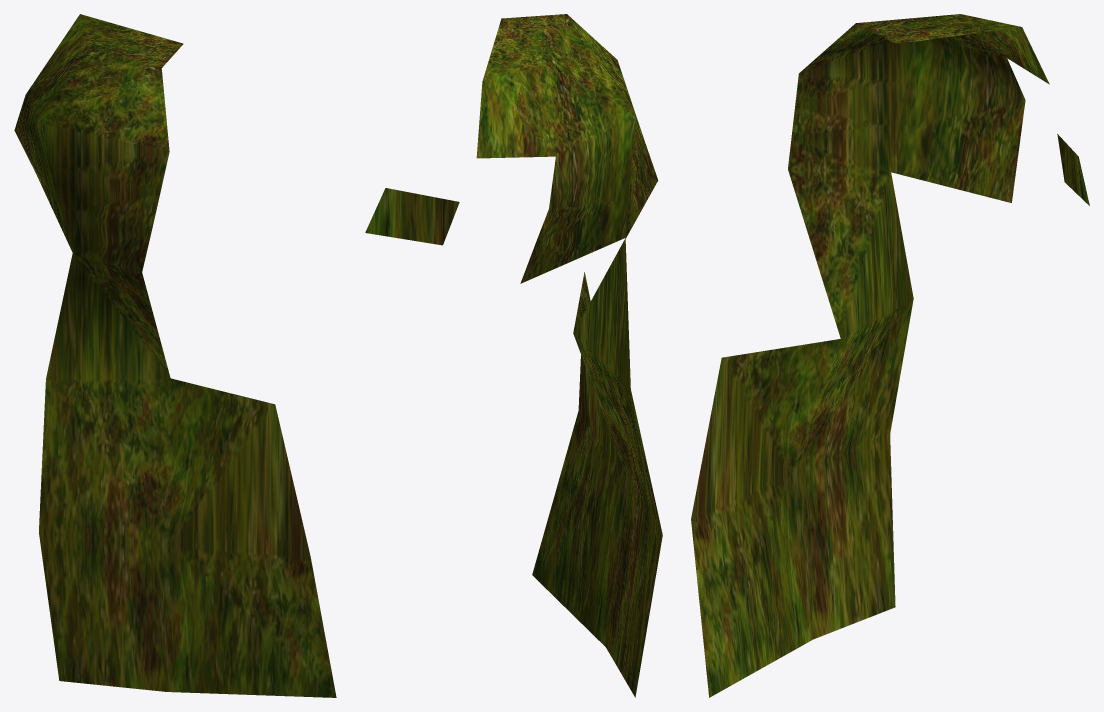
The model's file is TROLLHOLE02_RM_PSURF99.fbx.
3 renders of one model, left to right at view 1: azimuth 30°, elevation 25°; view 2: azimuth 150°, elevation 25°; view 3: azimuth 270°, elevation 25°, orthographic. The views are drawn at different scales.
Parts seen in each view (by area): view 1: TROLLHOLE02_RM_PSURF99; view 2: TROLLHOLE02_RM_PSURF99; view 3: TROLLHOLE02_RM_PSURF99.
Boxes of the visible parts, x1,y1,x2,y2 form: TROLLHOLE02_RM_PSURF99: [14, 14, 336, 697]; TROLLHOLE02_RM_PSURF99: [365, 14, 662, 697]; TROLLHOLE02_RM_PSURF99: [691, 14, 1089, 697].
Bounding box in the file's own units: 29456 × 81235 × 46918.
1 material, 1 textured.
